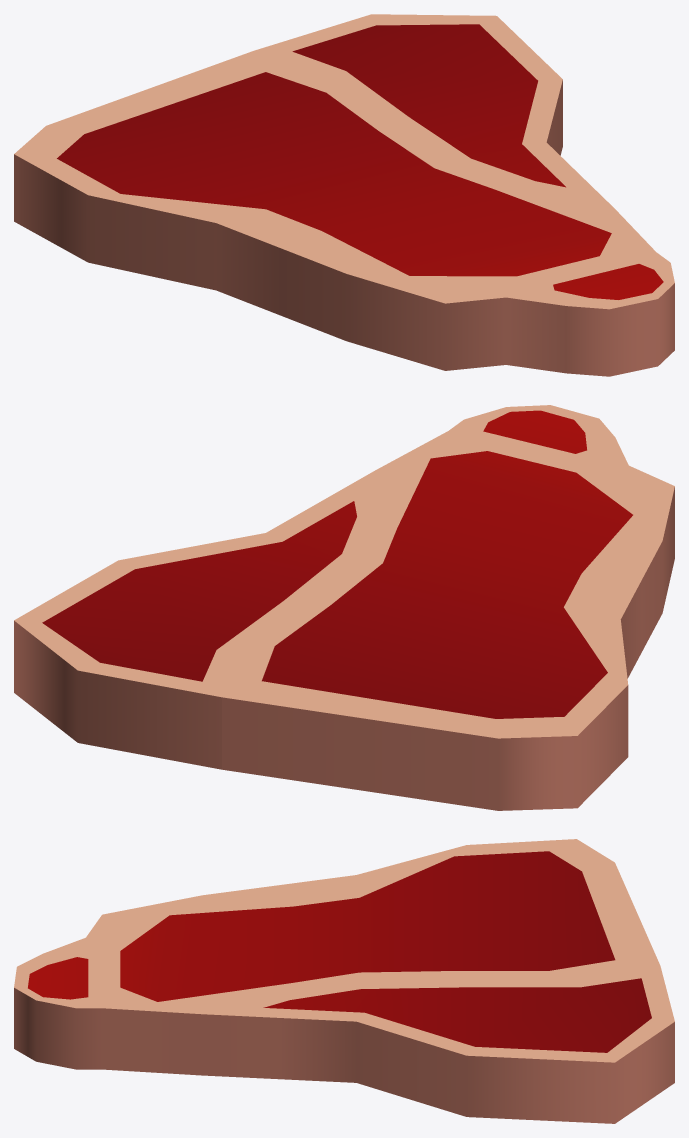
Rendered from Steak_Regular.fbx.
The picture shows the model from 3 angles, top to bottom: view 1: azimuth 30°, elevation 25°; view 2: azimuth 150°, elevation 25°; view 3: azimuth 270°, elevation 25°; orthographic projection. The views are drawn at different scales.
Visible parts, largest first — view 1: Steak_Regular; view 2: Steak_Regular; view 3: Steak_Regular.
Boxes of the visible parts, x1,y1,x2,y2 form: Steak_Regular: (14,14,674,376); Steak_Regular: (14,405,674,810); Steak_Regular: (14,839,674,1123).
Size of the model in its own units: 36.2 by 4.63 by 45.22.
